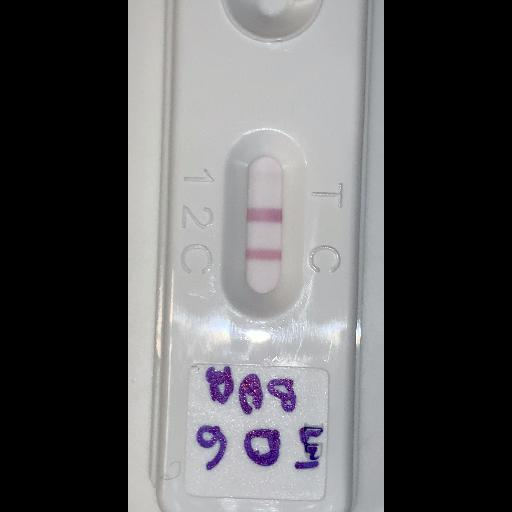Pos: (166, 0, 363, 507)
